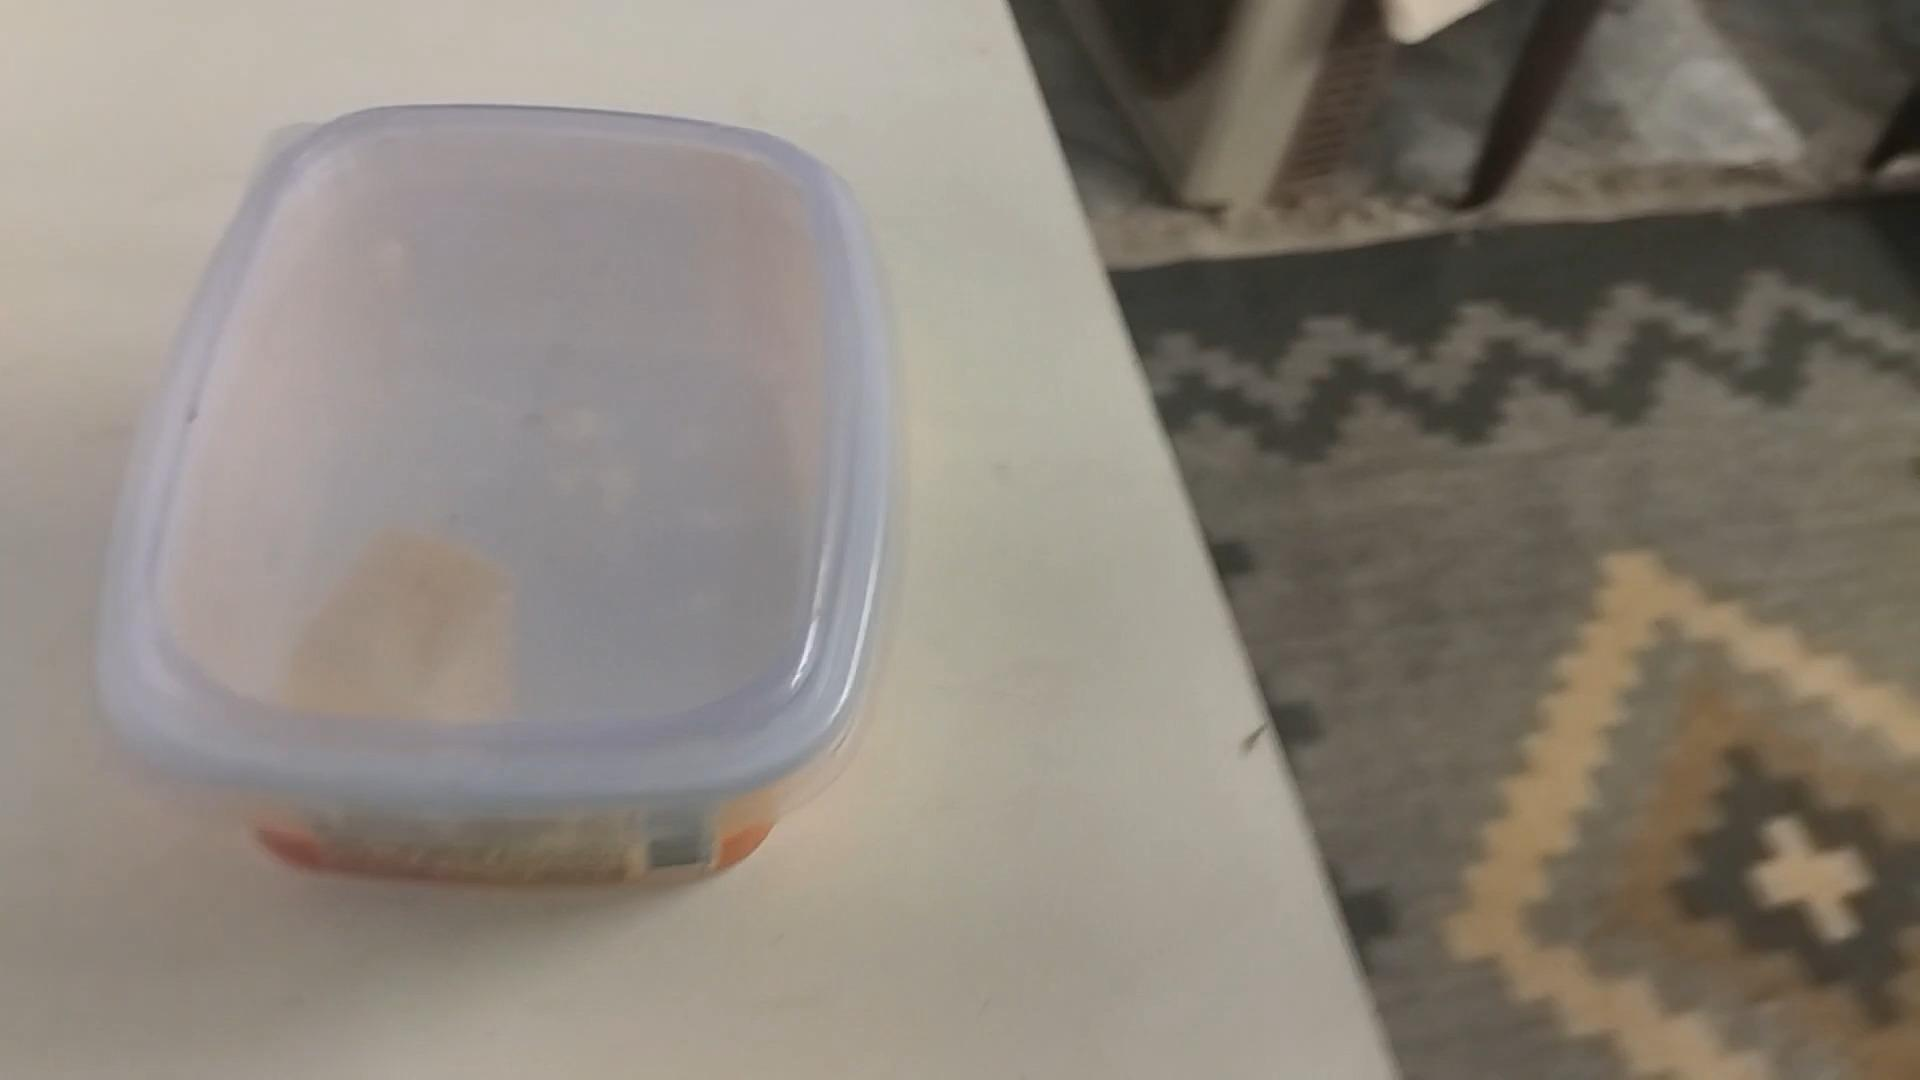butter: (94, 105, 885, 890)
